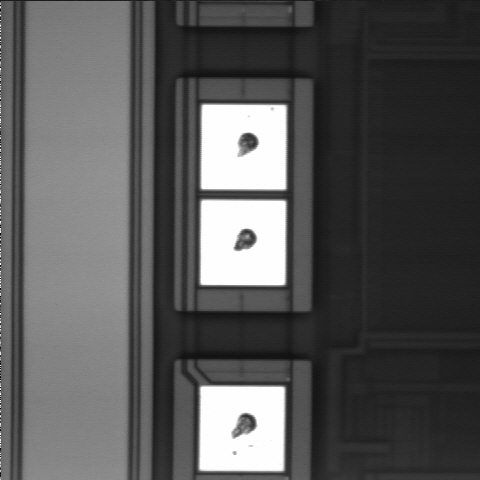pad: (201, 105, 286, 190), (201, 200, 286, 285), (200, 386, 285, 471)
